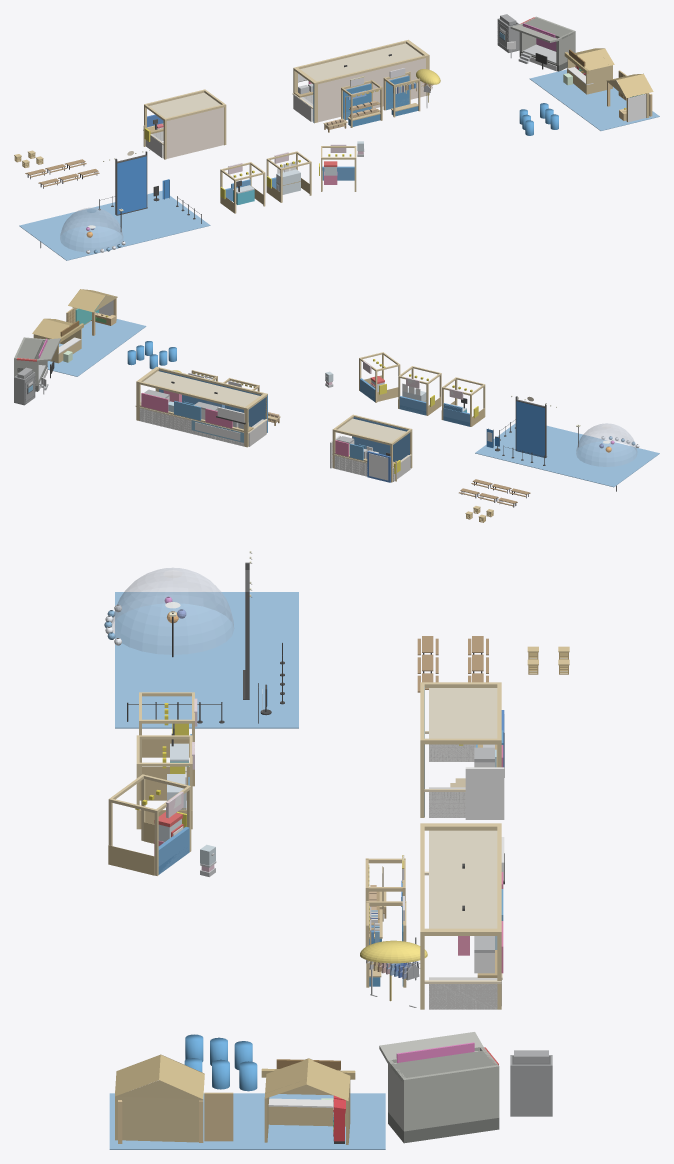
Rendered from seomun_market.glb.
3 renders of one model, top to bottom at view 1: azimuth 30°, elevation 25°; view 2: azimuth 150°, elevation 25°; view 3: azimuth 270°, elevation 25°, orthographic. The views are drawn at different scales.
Parts seen in each view (by area): view 1: Geom3D (×19); view 2: Geom3D (×20); view 3: Geom3D (×22).
Boxes of the visible parts, box(x1,y1,x2,y2) form: Geom3D (×19): box(19, 18, 659, 260); Geom3D (×20): box(16, 289, 659, 487); Geom3D (×22): box(108, 568, 552, 1149).
Size of the model in its own units: 88.62 by 10.82 by 31.21.
